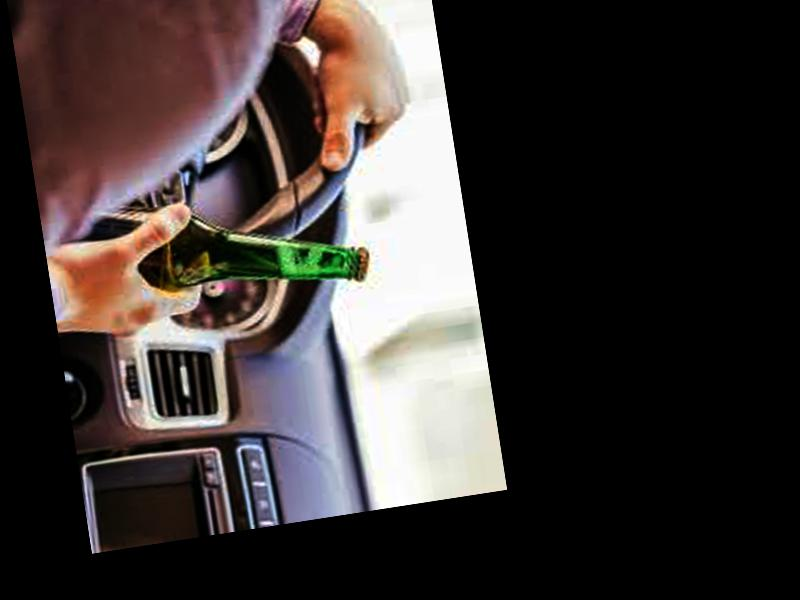Beer: (72, 172, 374, 324)
